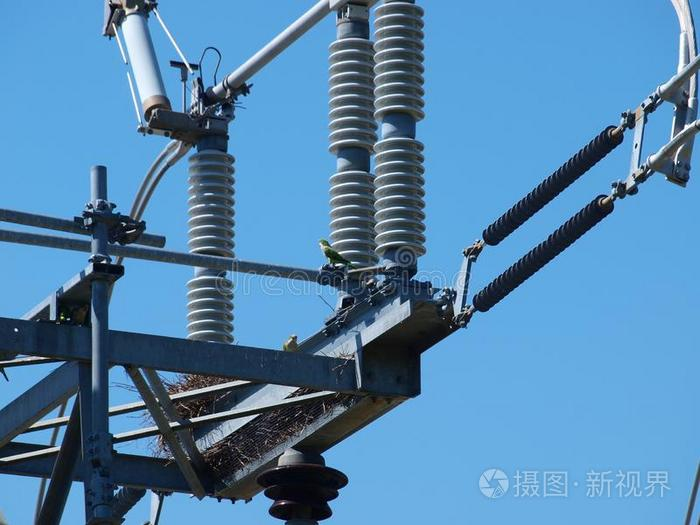insulator: (482, 126, 622, 245), (473, 196, 613, 313)
